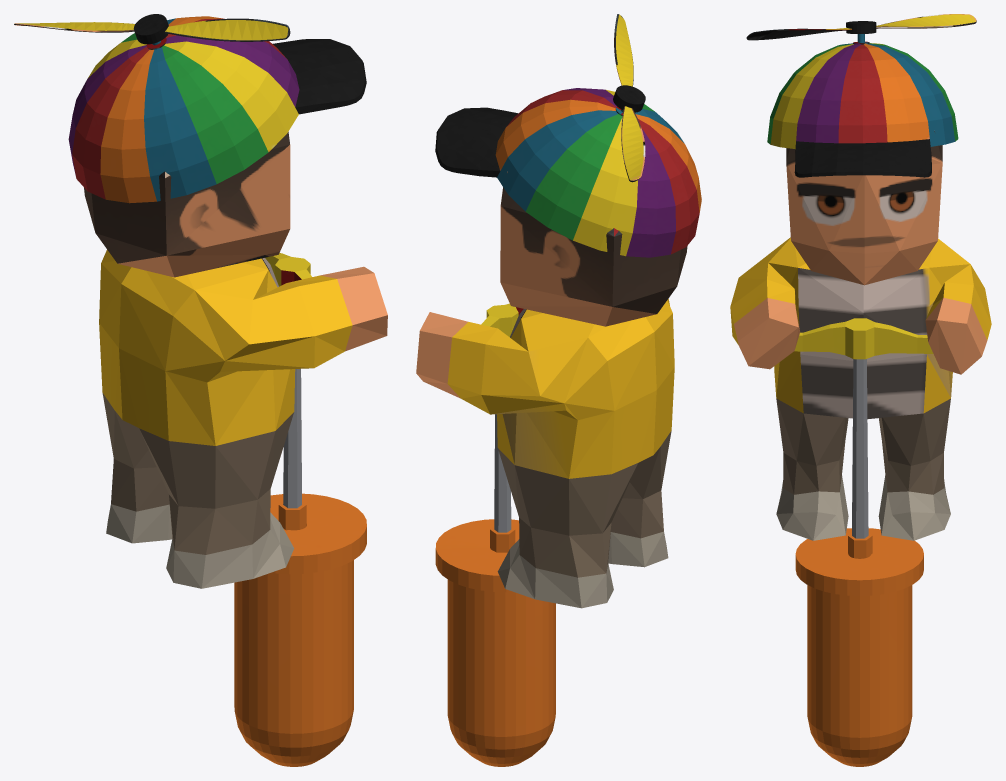
Rendered from NewPogoDJumpFront1.fbx.
3 renders of one model, left to right at view 1: azimuth 30°, elevation 25°; view 2: azimuth 150°, elevation 25°; view 3: azimuth 270°, elevation 25°, orthographic. The views are drawn at different scales.
Parts seen in each view (by area): view 1: NewPogoDoubleJumpFront; view 2: NewPogoDoubleJumpFront; view 3: NewPogoDoubleJumpFront.
Part boxes in pixels (left/top/right/bottom): NewPogoDoubleJumpFront: left=14, top=14, right=387, bottom=766; NewPogoDoubleJumpFront: left=416, top=14, right=701, bottom=766; NewPogoDoubleJumpFront: left=730, top=14, right=991, bottom=766.
Bounding box in the file's own units: 0.3619 × 0.986 × 0.3328.
Materials: 1 (1 with a texture image).
